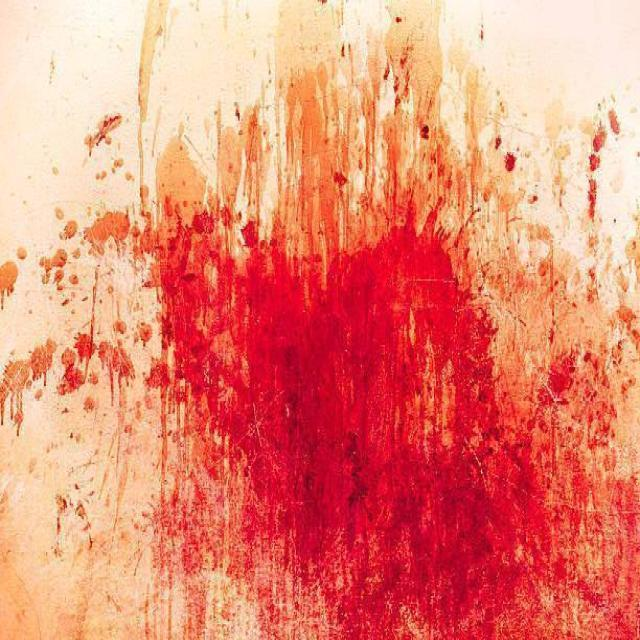flood: (108, 117, 640, 640)
